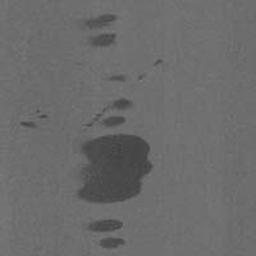Oil spot: (70, 95, 155, 206), (73, 12, 118, 51), (84, 216, 127, 250), (18, 108, 49, 131), (102, 72, 131, 83), (151, 56, 164, 68), (137, 70, 148, 81)
